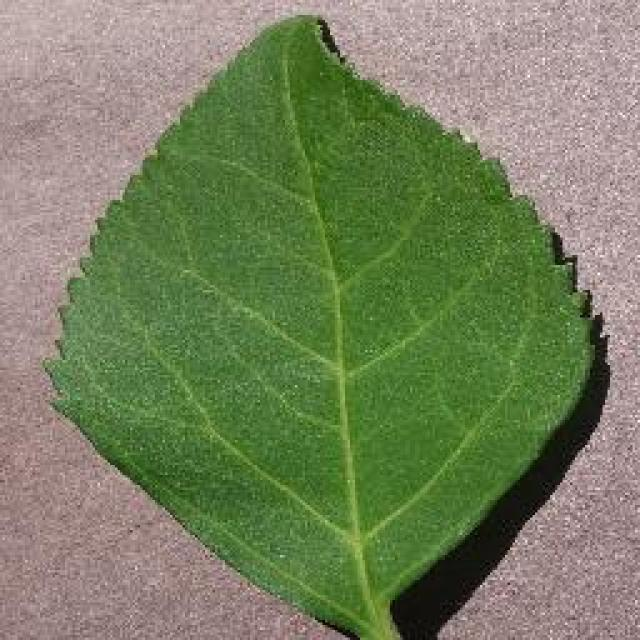Cherry___healthy: (77, 82, 550, 552)
